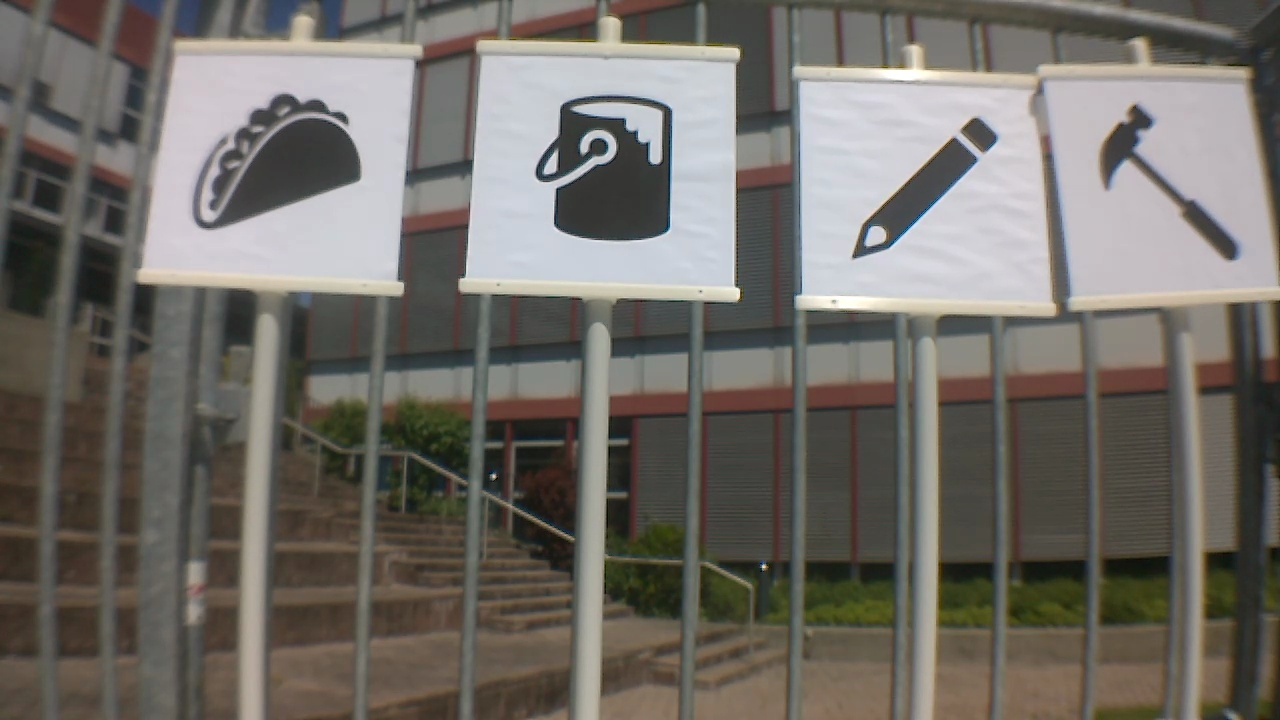bucket: (525, 83, 688, 239)
hammer: (1086, 99, 1241, 263)
pencil: (843, 113, 1005, 262)
taco: (189, 99, 372, 227)
